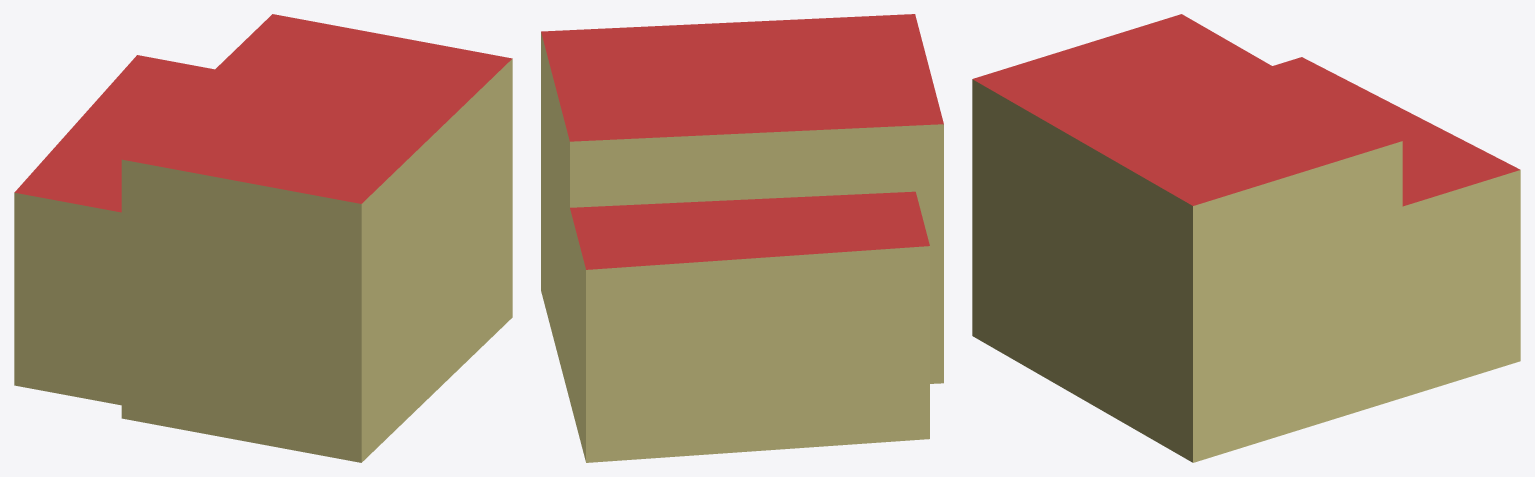
3 views of the same model, side by side, from view 1: azimuth 30°, elevation 25°; view 2: azimuth 150°, elevation 25°; view 3: azimuth 270°, elevation 25° (orthographic).
Size of the model in its own units: 18.12 by 19.57 by 10.11.
